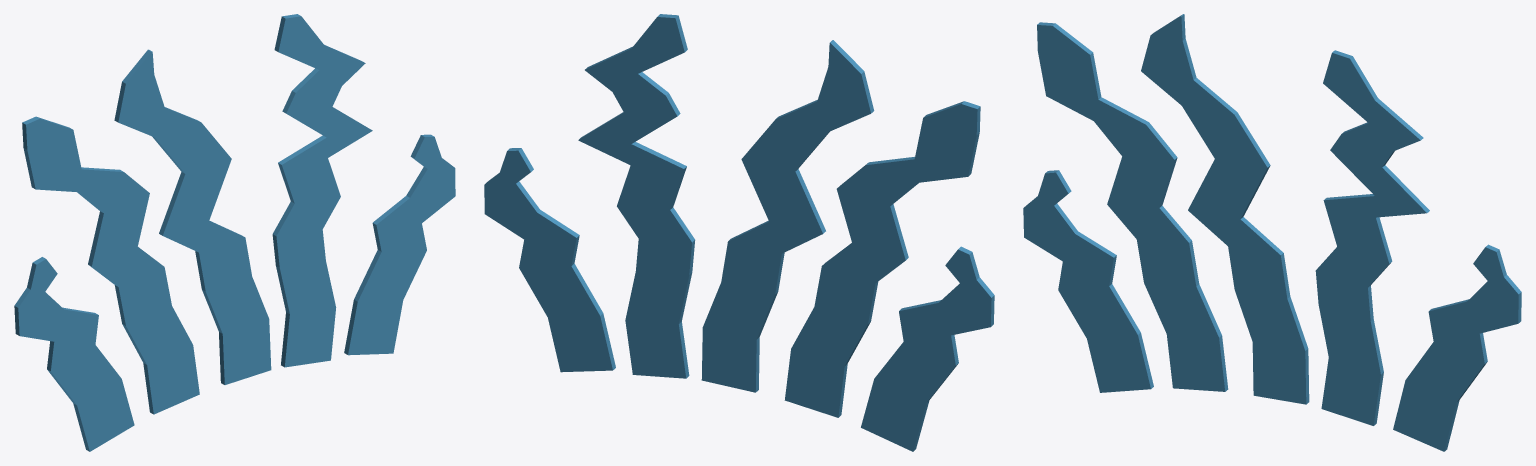
3 renders of one model, left to right at view 1: azimuth 30°, elevation 25°; view 2: azimuth 150°, elevation 25°; view 3: azimuth 330°, elevation 25°, orthographic. The views are drawn at different scales.
Parts seen in each view (by area): view 1: Plane.002; view 2: Plane.002; view 3: Plane.002.
Boxes of the visible parts, bbox=[...] form: Plane.002: bbox=[14, 14, 455, 451]; Plane.002: bbox=[484, 14, 994, 451]; Plane.002: bbox=[1023, 14, 1521, 451].
Bounding box in the file's own units: 1.07 × 0.838 × 0.1046.
